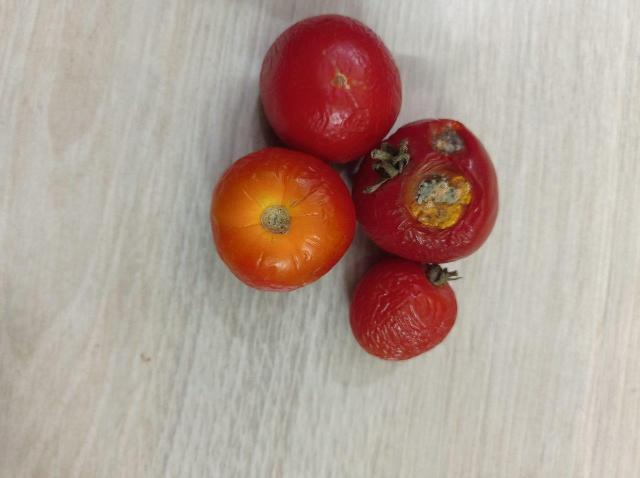defect: (352, 114, 501, 269), (208, 148, 358, 301), (252, 7, 403, 148)
